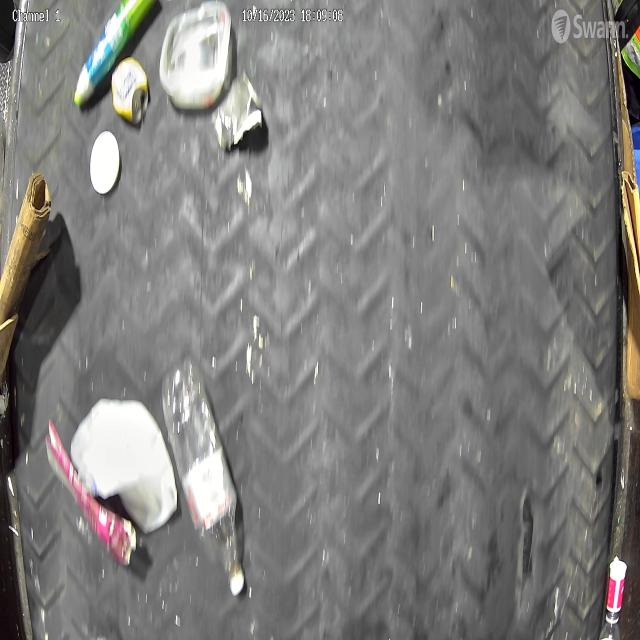can: (211, 70, 263, 151), (111, 55, 149, 126)
milk_jug: (71, 398, 178, 535)
non_white_jug: (45, 417, 137, 566)
plastic_bottle: (160, 354, 248, 597)
